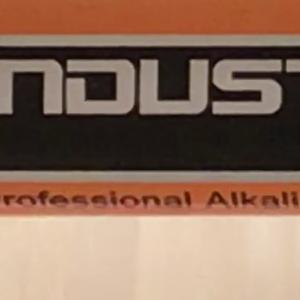ALK: (198, 182, 265, 215)
